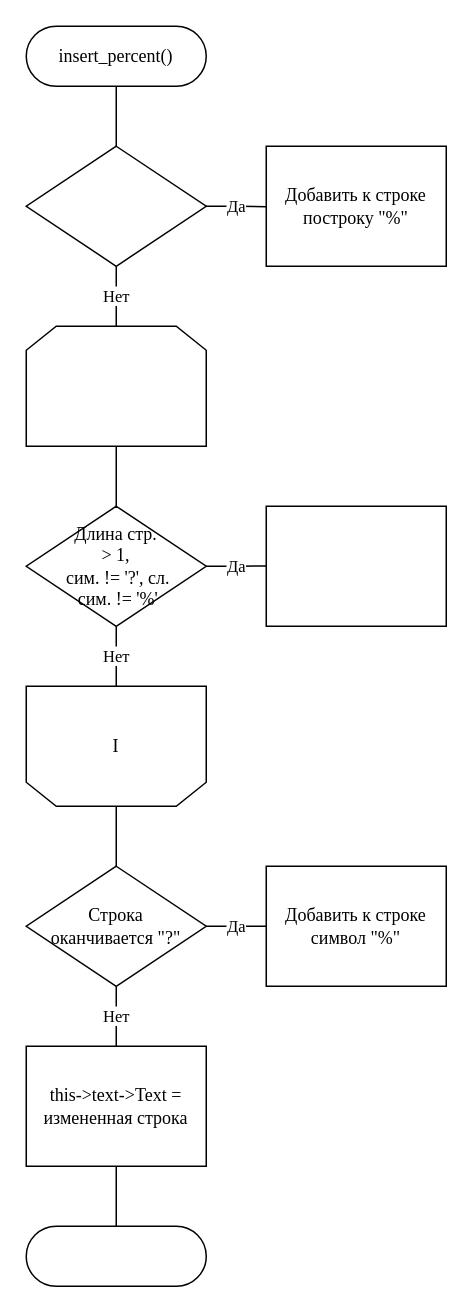
This 473x1313 diagram has some shape labels left out. Here are the shapes that lost their labels. From the top down, the centre of each, then its label:
(x=115, y=205): Строка равна "?"
(x=115, y=385): I = 0, пока I < (длины строки - 1)
(x=355, y=565): Вставить в стркоу следующим символом "%"
(x=115, y=1255): Конец
